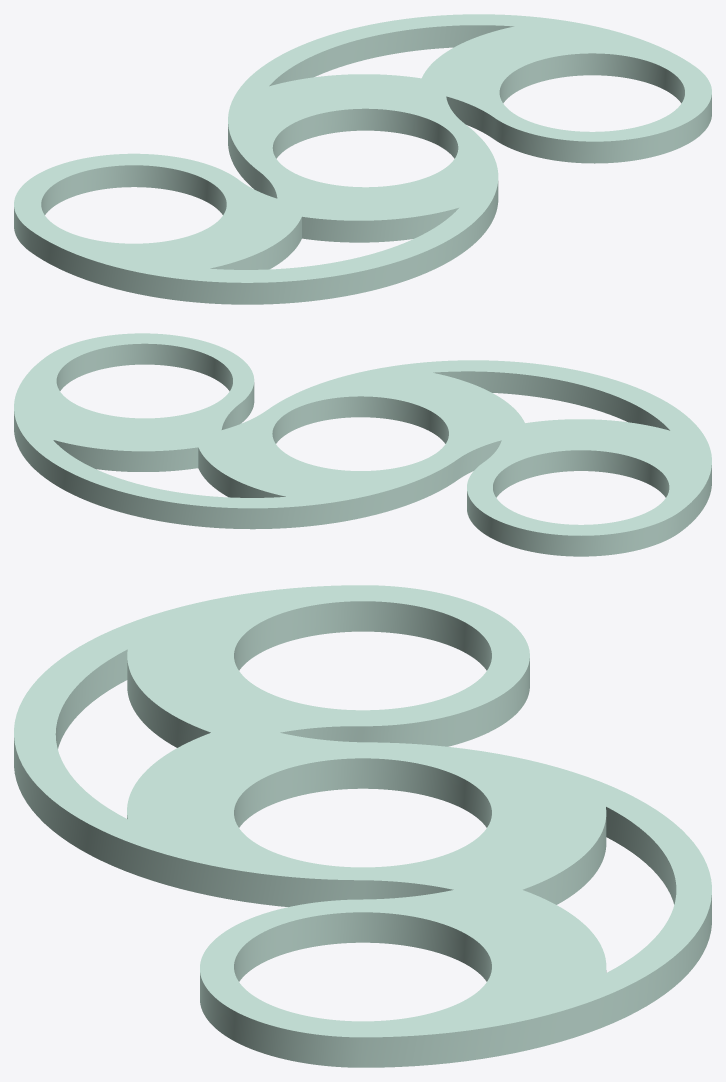
3 renders of one model, top to bottom at view 1: azimuth 30°, elevation 25°; view 2: azimuth 150°, elevation 25°; view 3: azimuth 270°, elevation 25°, orthographic. The views are drawn at different scales.
Visible parts, largest first — view 1: Renderer Node; view 2: Renderer Node; view 3: Renderer Node.
Boxes of the visible parts, left/top/right/bottom form: Renderer Node: left=14, top=14, right=711, bottom=304; Renderer Node: left=14, top=333, right=711, bottom=556; Renderer Node: left=14, top=585, right=711, bottom=1067.
Size of the model in its own units: 1.5 by 0.0469 by 0.9757.
